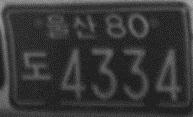0: (126, 12, 148, 39)
3: (121, 47, 150, 100), (89, 46, 117, 100)
4: (155, 48, 182, 100), (60, 47, 86, 100)
8: (103, 13, 125, 39)
도: (20, 49, 53, 82)
울산_O: (45, 13, 98, 40)
